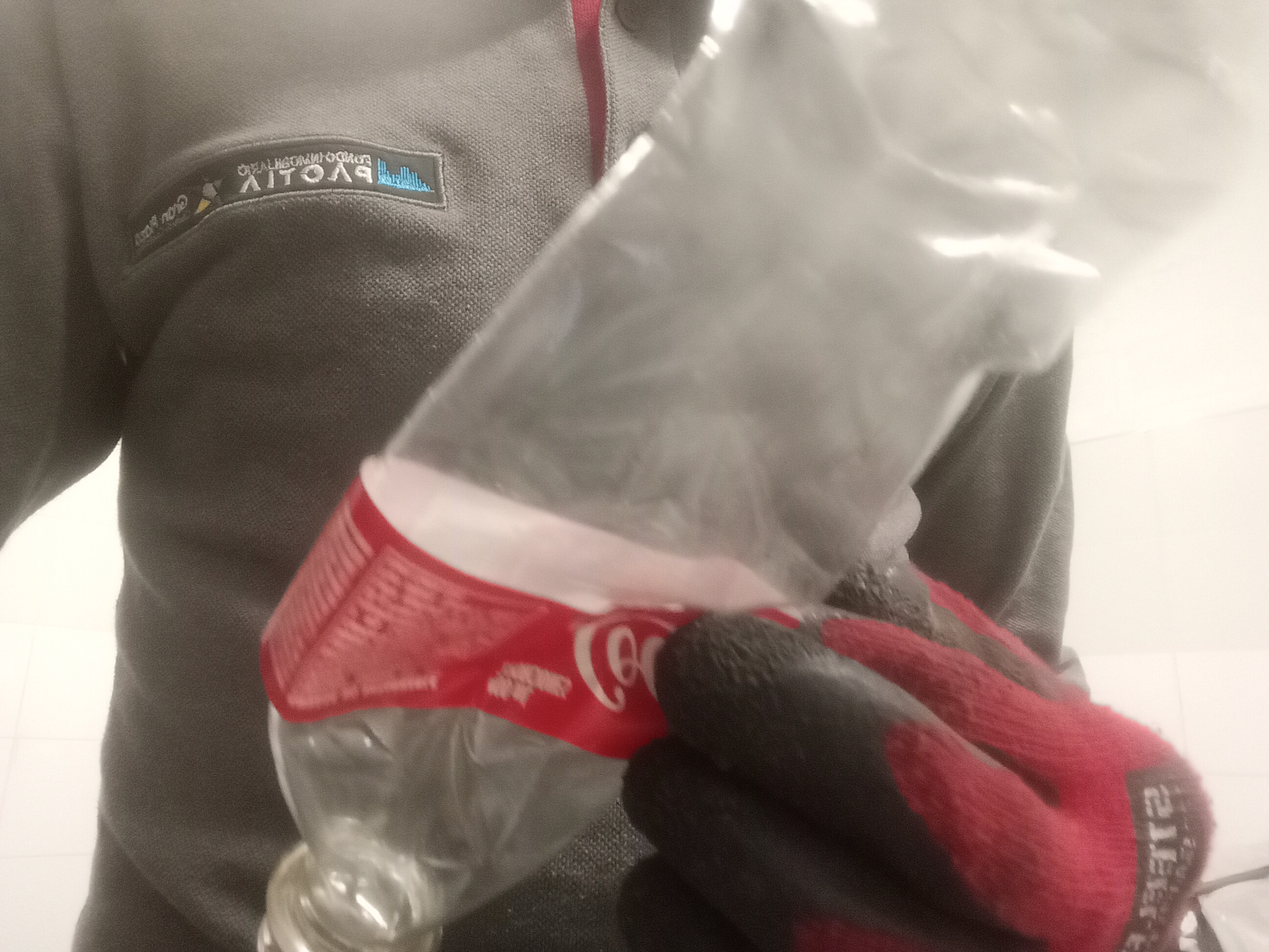Plastico: (258, 0, 1256, 952)
